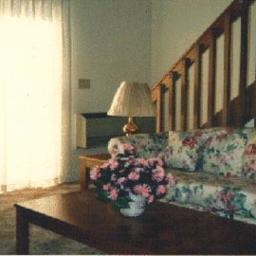Escaleras: (154, 5, 248, 131)
Ventana: (4, 11, 73, 161)
